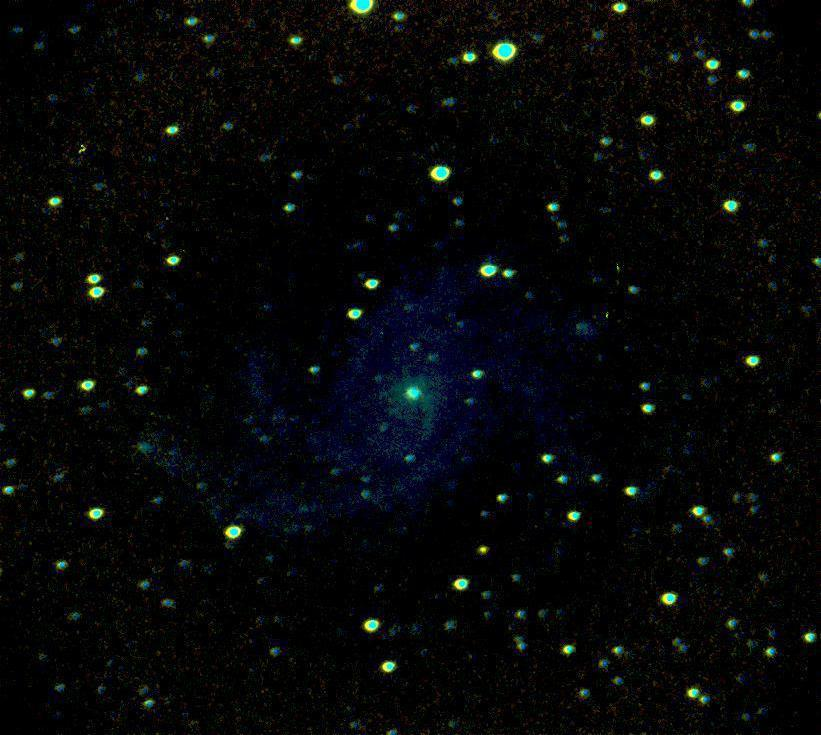star: (469, 533, 499, 563)
